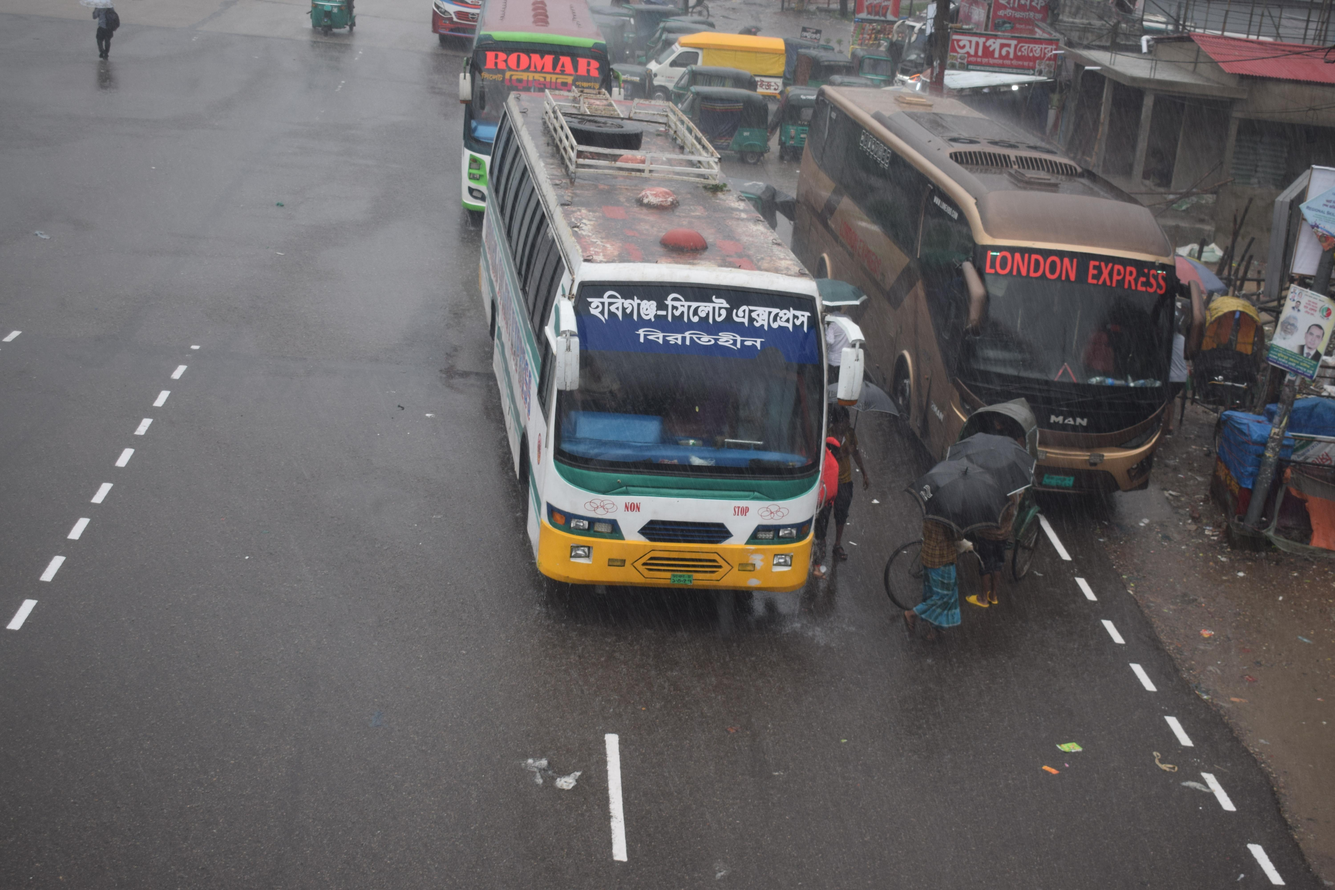Bus: (437, 69, 862, 627), (776, 67, 1199, 512), (419, 0, 635, 234)
Car: (866, 388, 1058, 649), (634, 26, 780, 99)
